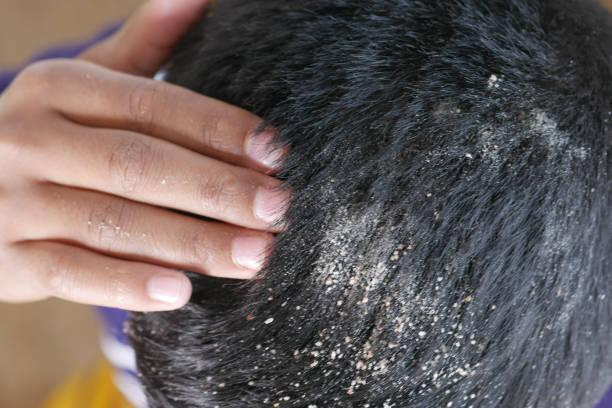dandruff: (245, 303, 516, 404), (443, 54, 598, 198), (307, 182, 421, 321), (501, 260, 605, 376)
